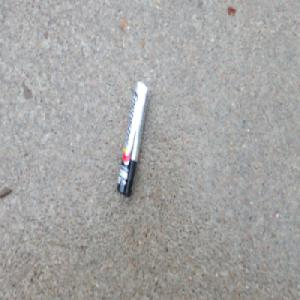Battery: (116, 79, 148, 197)
